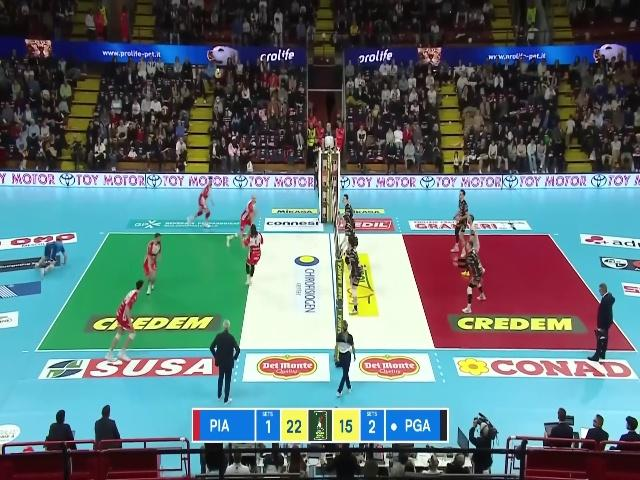volleyball court: (36, 232, 638, 351)
